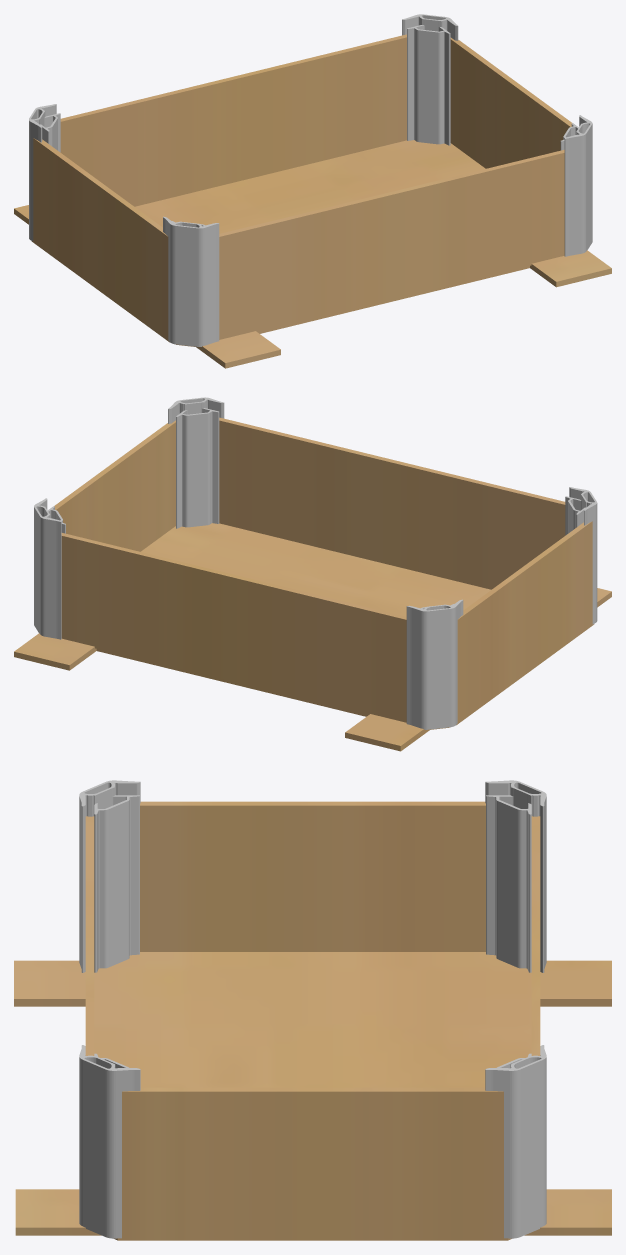
Rendered from theOriginal6.dae.
3 renders of one model, top to bottom at view 1: azimuth 30°, elevation 25°; view 2: azimuth 150°, elevation 25°; view 3: azimuth 270°, elevation 25°, orthographic. The views are drawn at different scales.
Visible parts, largest first — view 1: Cu, Cu_001, Cube_001, vasi, Cube, Plane_003, Plane_001, mpakalos, Plane_004, Plane_002, panomesi, katomesi; view 2: Cu_001, Cu, Cube_001, vasi, Cube, Plane_002, Plane_004, mpakalos, Plane_001, Plane_003, katodeksia, katomesi (+1 smaller); view 3: Cube, Cube_001, vasi, mpakalos, Plane_002, Plane_003, Plane_001, Plane_004, panoaristera, aristeraaristera, Cu, Cu_001 (+2 smaller).
Part boxes in pixels (left/top/right/bottom): Cu: left=219, top=149, right=564, bottom=339; Cu_001: left=60, top=34, right=406, bottom=206; Cube_001: left=31, top=138, right=169, bottom=342; vasi: left=140, top=142, right=469, bottom=233; Cube: left=450, top=37, right=571, bottom=168; Plane_003: left=163, top=216, right=219, bottom=346; Plane_001: left=402, top=14, right=458, bottom=145; mpakalos: left=14, top=140, right=611, bottom=368; Plane_004: left=560, top=115, right=592, bottom=256; Plane_002: left=29, top=104, right=60, bottom=241; panomesi: left=135, top=144, right=393, bottom=210; katomesi: left=258, top=266, right=529, bottom=333; Cu_001: left=61, top=533, right=406, bottom=722; Cu: left=219, top=417, right=565, bottom=589; Cube_001: left=456, top=521, right=594, bottom=725; vasi: left=155, top=534, right=486, bottom=616; Cube: left=54, top=420, right=175, bottom=551; Plane_002: left=406, top=599, right=463, bottom=729; Plane_004: left=168, top=397, right=224, bottom=528; mpakalos: left=14, top=523, right=611, bottom=751; Plane_001: left=34, top=498, right=65, bottom=639; Plane_003: left=565, top=487, right=597, bottom=624; katodeksia: left=152, top=523, right=244, bottom=557; katomesi: left=233, top=528, right=491, bottom=593; Cube: left=117, top=1087, right=508, bottom=1239; Cube_001: left=140, top=801, right=485, bottom=951; vasi: left=108, top=960, right=517, bottom=1087; mpakalos: left=14, top=960, right=611, bottom=1235; Plane_002: left=485, top=780, right=546, bottom=972; Plane_003: left=79, top=780, right=140, bottom=972; Plane_001: left=485, top=1045, right=546, bottom=1238; Plane_004: left=79, top=1045, right=140, bottom=1238; panoaristera: left=425, top=952, right=531, bottom=990; aristeraaristera: left=170, top=952, right=424, bottom=963; Cu: left=85, top=816, right=94, bottom=1055; Cu_001: left=531, top=816, right=540, bottom=1055.
Bounding box in the file's own units: 4.02 × 3.5 × 1.13.
2 materials, 1 textured.
